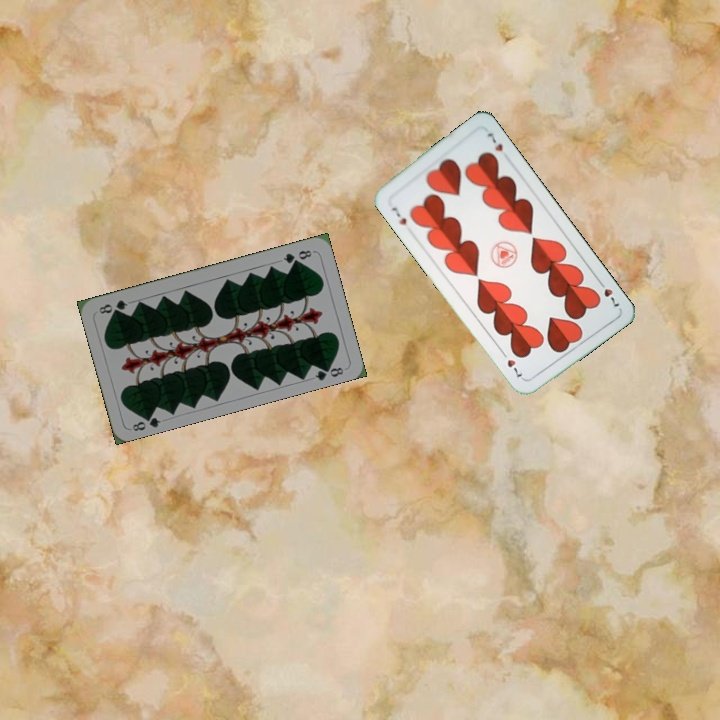G8: (128, 409, 163, 434), (279, 246, 314, 266)
H7: (594, 276, 622, 310), (387, 203, 409, 228)
